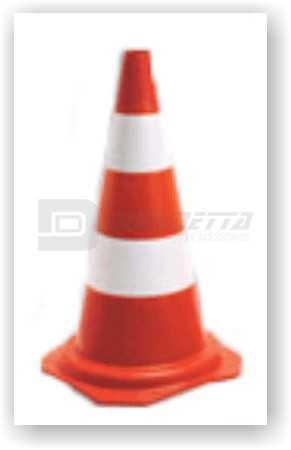traffic_cone: (40, 48, 243, 406)
